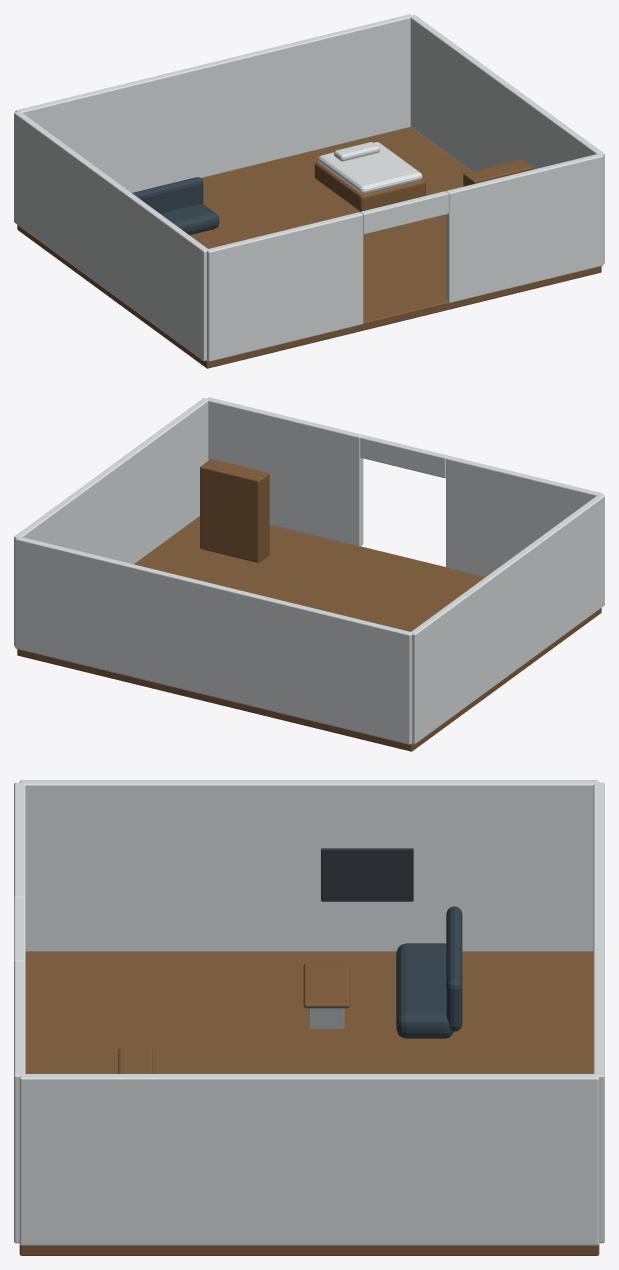
The model's file is SM_Safehouse.fbx.
The picture shows the model from 3 angles, top to bottom: view 1: azimuth 30°, elevation 25°; view 2: azimuth 150°, elevation 25°; view 3: azimuth 270°, elevation 25°; orthographic projection. The views are drawn at different scales.
Parts seen in each view (by area): view 1: SM_Safehouse; view 2: SM_Safehouse; view 3: SM_Safehouse.
Part boxes in pixels (box(x1,y1,x2,y2)): SM_Safehouse: box(14, 14, 604, 368); SM_Safehouse: box(14, 397, 604, 751); SM_Safehouse: box(14, 780, 604, 1255).
Size of the model in its own units: 1220 by 1020 by 344.
